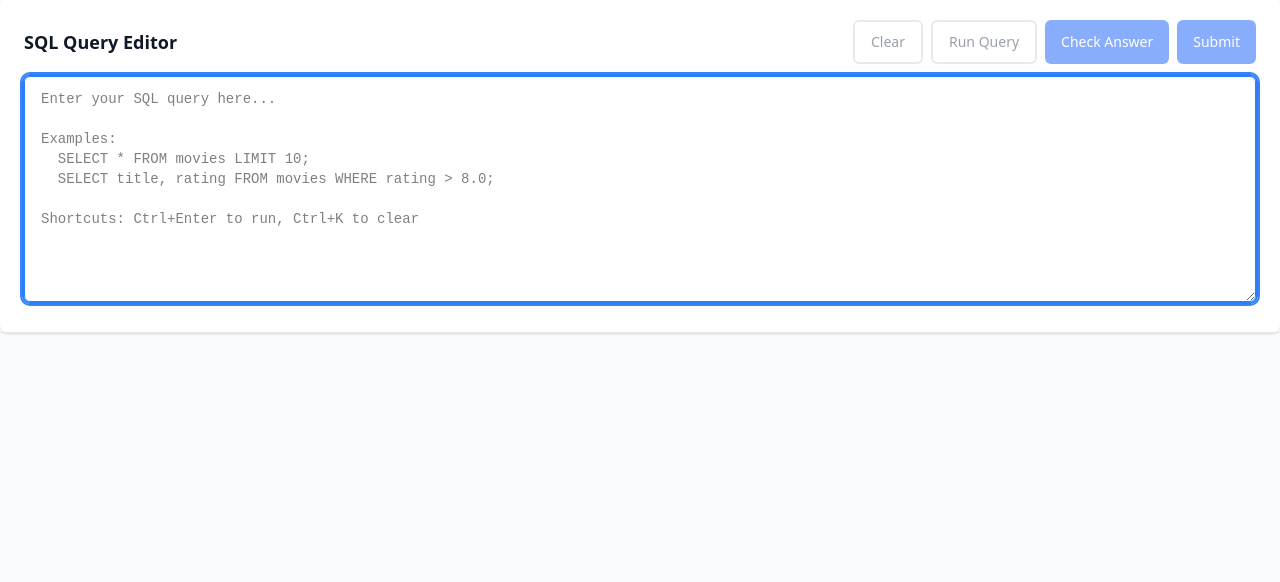
Test: QueryEditor › Loading States › shows loading state during submission
This screenshot has width=1280, height=582.
Type "SELECT * FROM users" into the text box named "sql query input".
click(640, 189); type("SELECT * FROM users")  # box [24,76,1256,302]
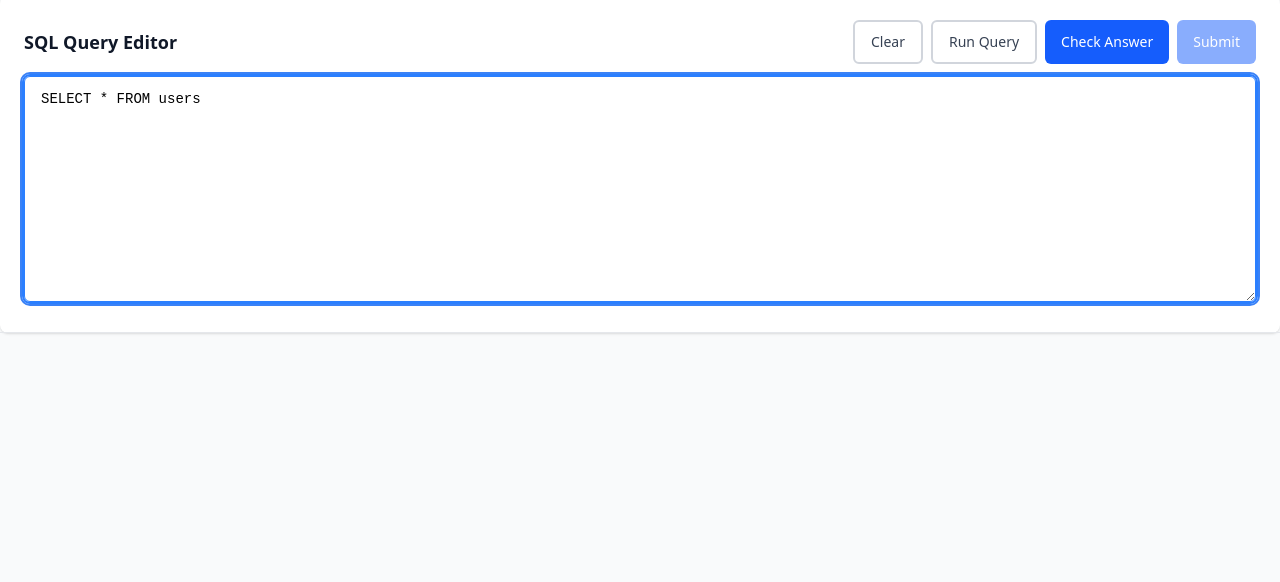
Click the button "Check Answer".
click(1107, 42)  # box [1045,20,1169,64]
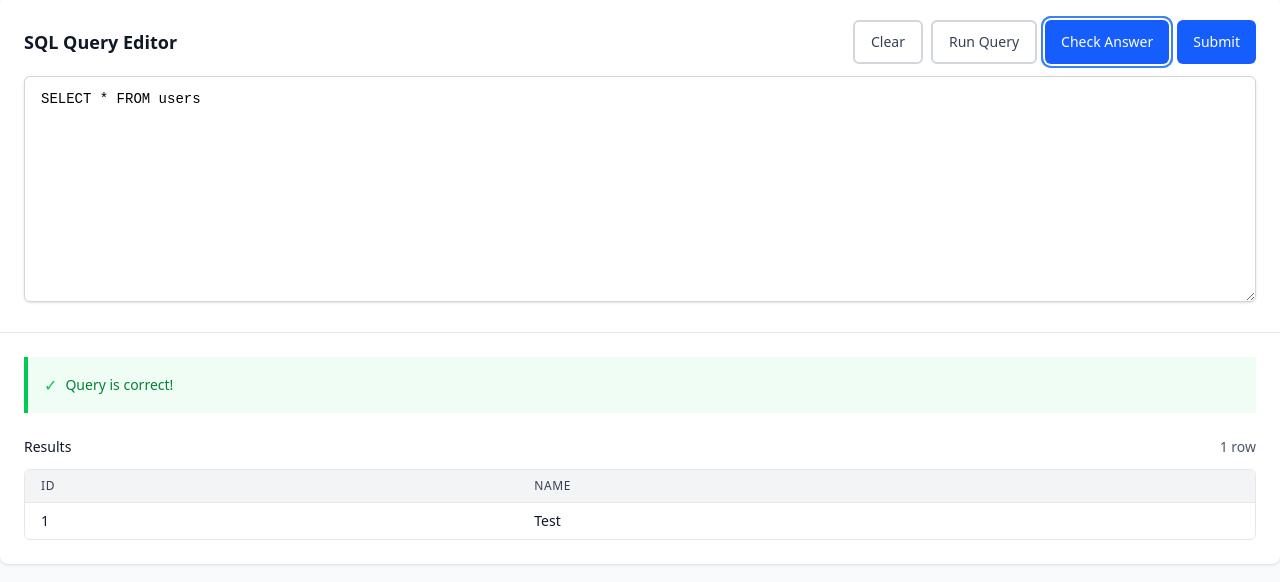
Check: the text "Query is correct!" is shown, box [65,375,173,395]
Click the button "Submit".
click(1217, 42)  # box [1177,20,1256,64]
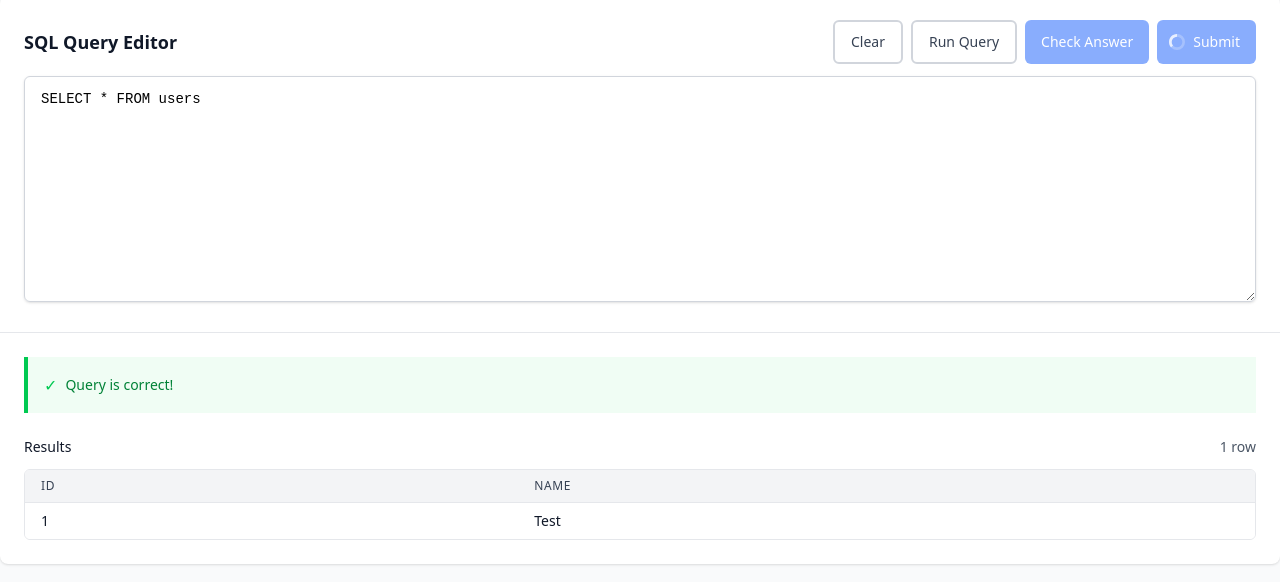
Check: the button "Submit" is disabled, box [1157,20,1256,64]
